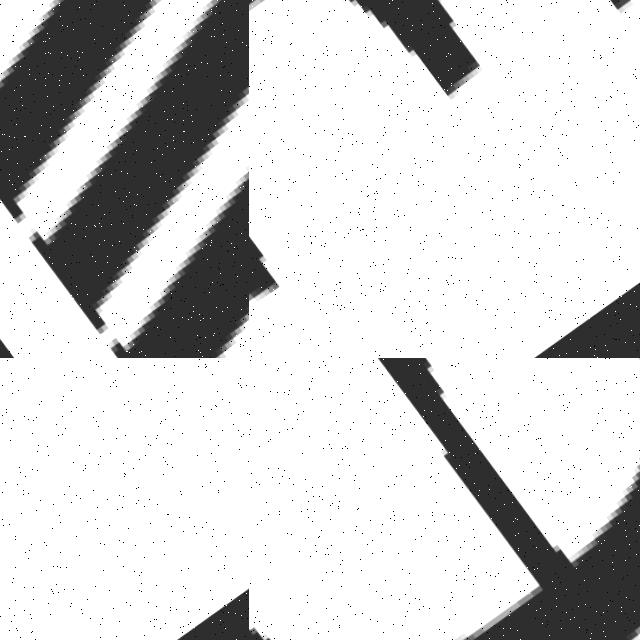3: (249, 0, 640, 331)
E: (364, 358, 640, 640)
J: (0, 358, 249, 551)
M: (0, 0, 249, 358)
